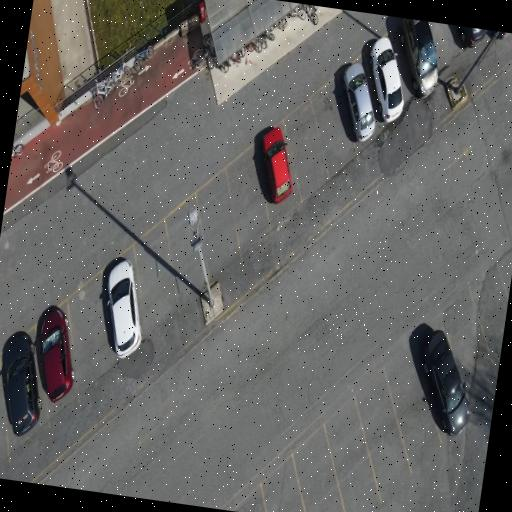car: (423, 331, 468, 435), (0, 332, 40, 436), (36, 306, 74, 401), (107, 260, 140, 357), (400, 18, 437, 97), (369, 37, 403, 122), (342, 63, 374, 141), (262, 127, 291, 203), (459, 26, 486, 46), (497, 32, 509, 38)
